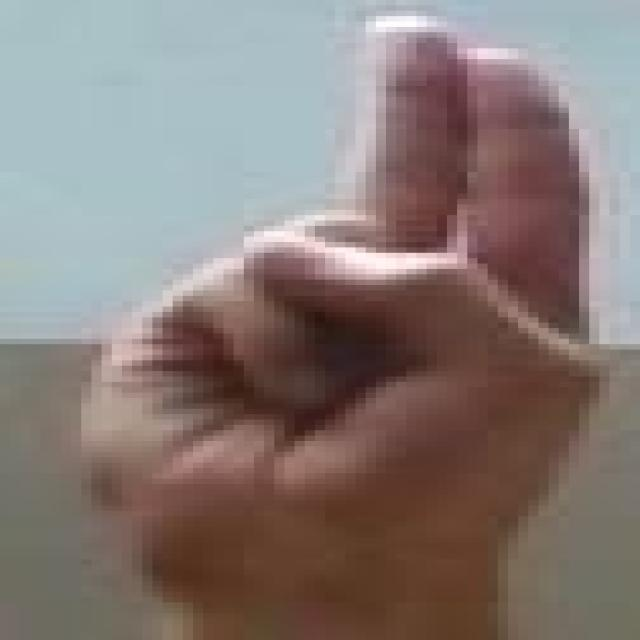U: (64, 9, 633, 617)
